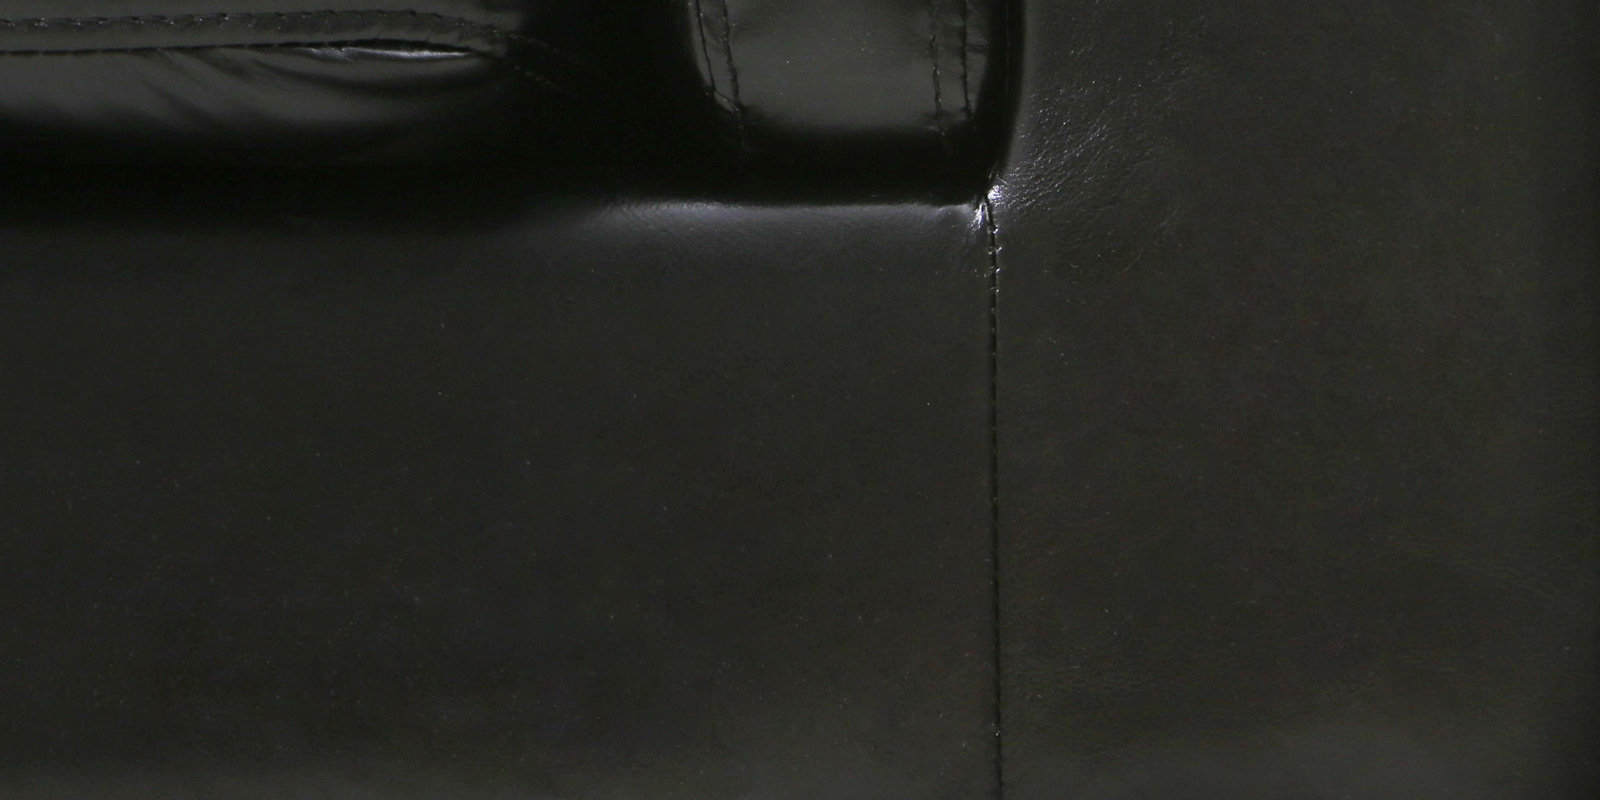Forma Three Seater Sofa in Black Colour by Zofa: (1, 6, 1600, 790)
